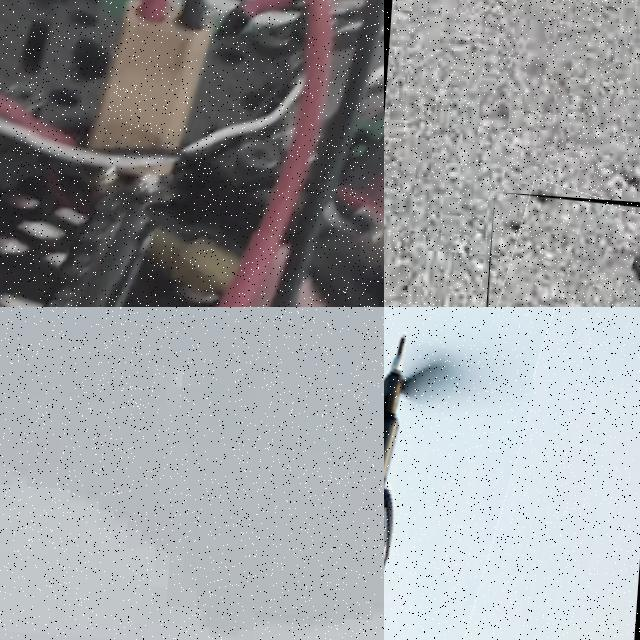0: (477, 191, 640, 307)
drone: (0, 0, 384, 307), (384, 307, 547, 640)
